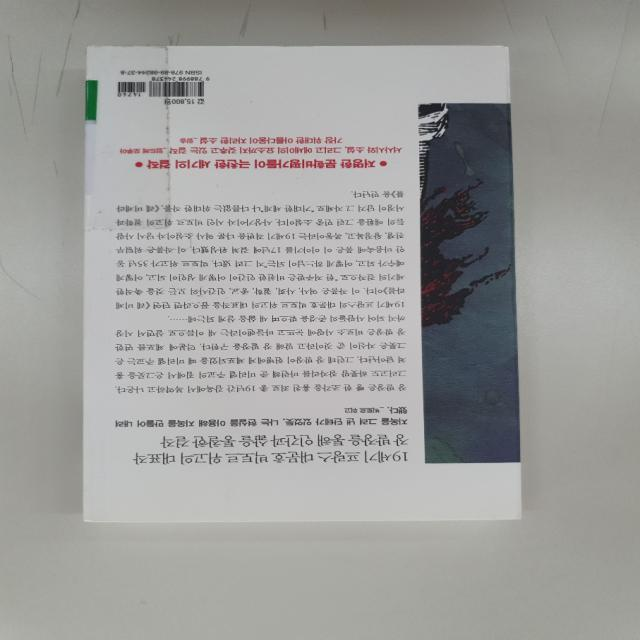Wornout: (82, 511, 161, 526), (495, 44, 510, 52)
